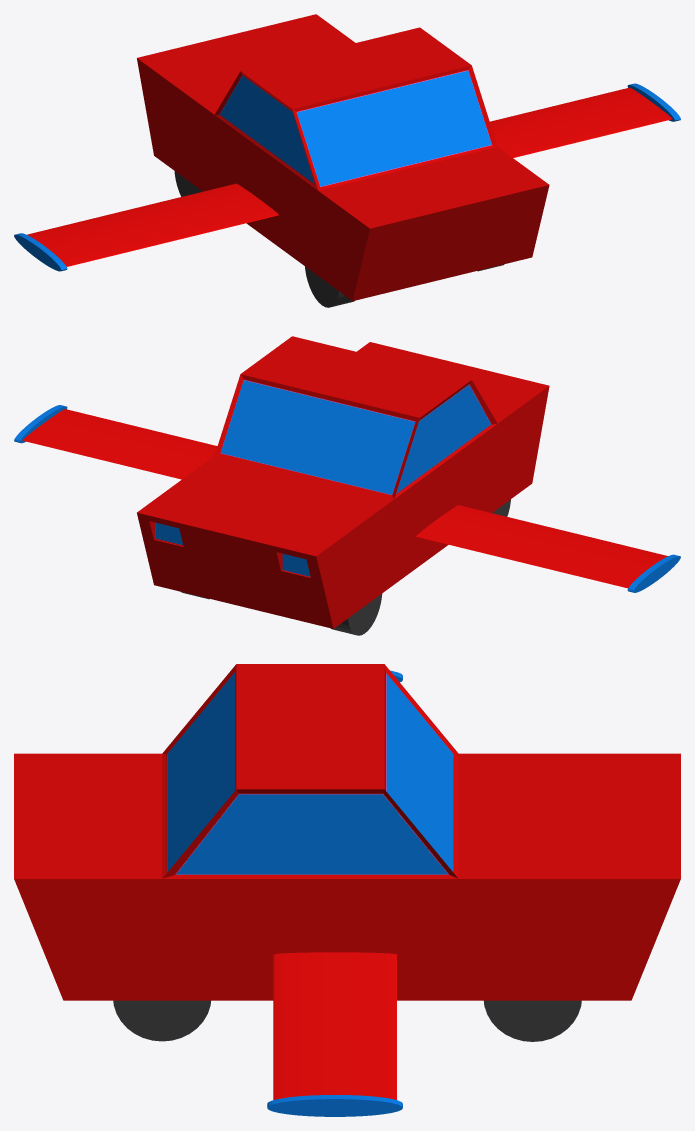
Rendered from FlyingCar.fbx.
The picture shows the model from 3 angles, top to bottom: view 1: azimuth 30°, elevation 25°; view 2: azimuth 150°, elevation 25°; view 3: azimuth 270°, elevation 25°; orthographic projection. The views are drawn at different scales.
Parts seen in each view (by area): view 1: FlyingCar, LeftWing, RightWing, LeftWheelBack, RightWingTip, LeftWingTip; view 2: FlyingCar, LeftWing, RightWing, LeftWheelFront, RightWingTip, LeftWingTip; view 3: FlyingCar, RightWing, RightWheelFront, RightWheelBack, LeftWingTip.
Part boxes in pixels (left/top/right/bottom): FlyingCar: left=137, top=14, right=549, bottom=300; LeftWing: left=27, top=183, right=278, bottom=266; RightWing: left=490, top=87, right=672, bottom=157; LeftWheelBack: left=305, top=266, right=354, bottom=307; RightWingTip: left=14, top=233, right=67, bottom=271; LeftWingTip: left=627, top=83, right=680, bottom=121; FlyingCar: left=137, top=336, right=549, bottom=628; LeftWing: left=416, top=505, right=667, bottom=588; RightWing: left=22, top=409, right=217, bottom=479; LeftWheelFront: left=331, top=593, right=382, bottom=635; RightWingTip: left=627, top=554, right=680, bottom=592; LeftWingTip: left=14, top=405, right=67, bottom=443; FlyingCar: left=14, top=664, right=680, bottom=1000; RightWing: left=273, top=952, right=396, bottom=1099; RightWheelFront: left=484, top=1000, right=581, bottom=1041; RightWheelBack: left=113, top=1000, right=210, bottom=1041; LeftWingTip: left=267, top=1095, right=402, bottom=1116.
Size of the model in its own units: 414 by 270 by 114.
Materials: 9 (1 with a texture image).
